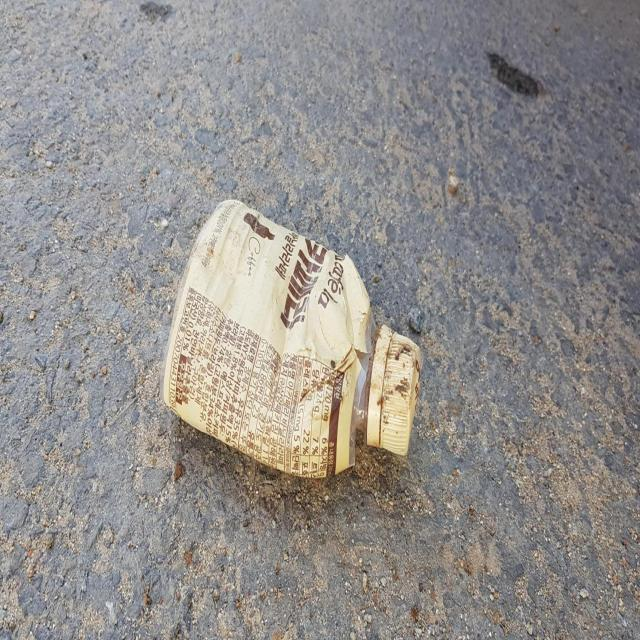plastic: (160, 199, 422, 478)
